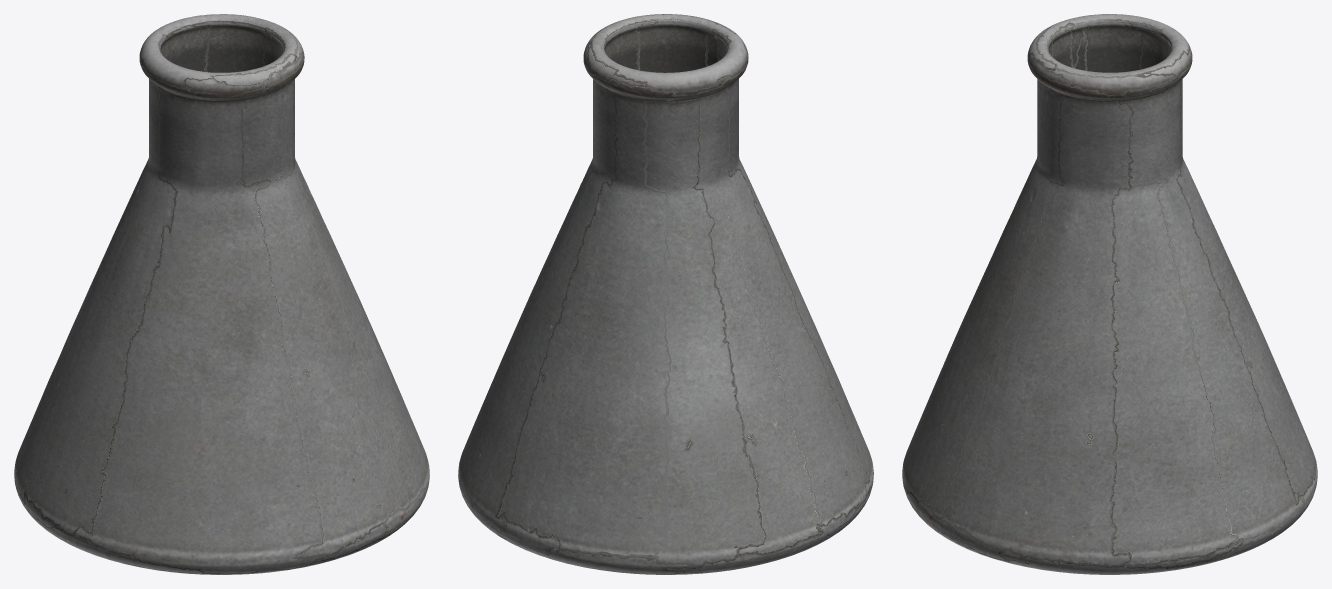
3 renders of one model, left to right at view 1: azimuth 30°, elevation 25°; view 2: azimuth 150°, elevation 25°; view 3: azimuth 270°, elevation 25°, orthographic.
Bounding box in the file's own units: 1.32 × 1.58 × 1.32.
1 material, 1 textured.
